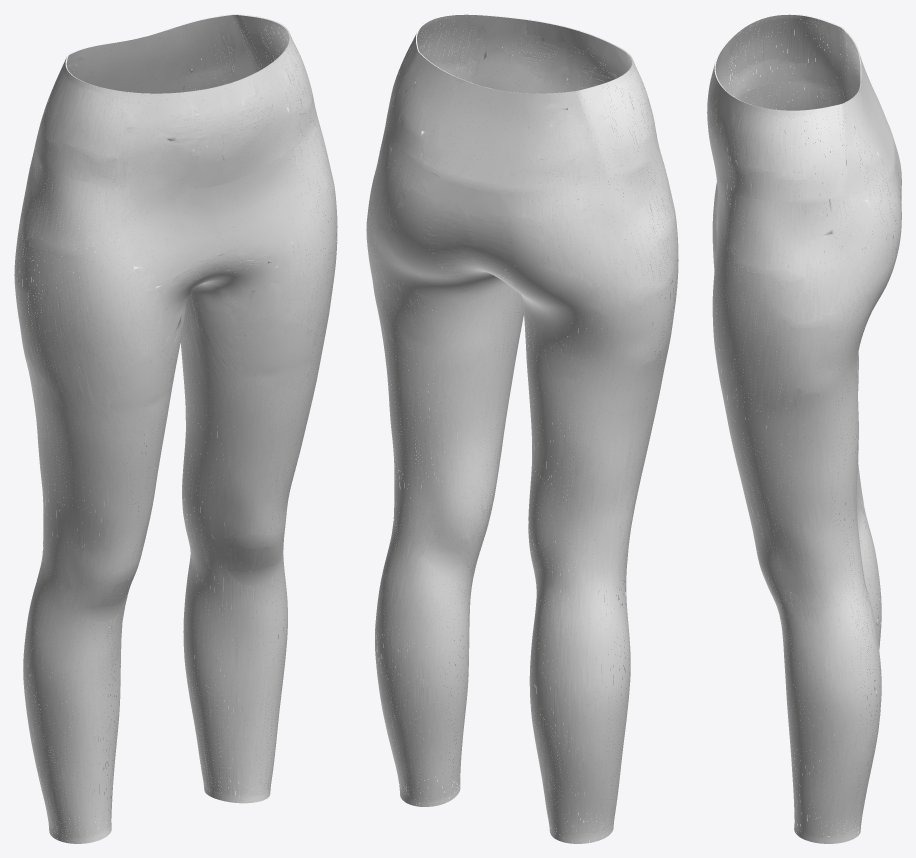
File: hoodie_model.glb
3 views of the same model, side by side, from view 1: azimuth 30°, elevation 25°; view 2: azimuth 150°, elevation 25°; view 3: azimuth 270°, elevation 25° (orthographic). The views are drawn at different scales.
Parts seen in each view (by area): view 1: leggings_low; view 2: leggings_low; view 3: leggings_low.
Part boxes in pixels (x1,y1,x2,y2): leggings_low: [14, 14, 337, 843]; leggings_low: [366, 14, 678, 843]; leggings_low: [707, 14, 901, 843].
Bounding box in the file's own units: 0.3769 × 0.927 × 0.2232.
1 material, 1 textured.
